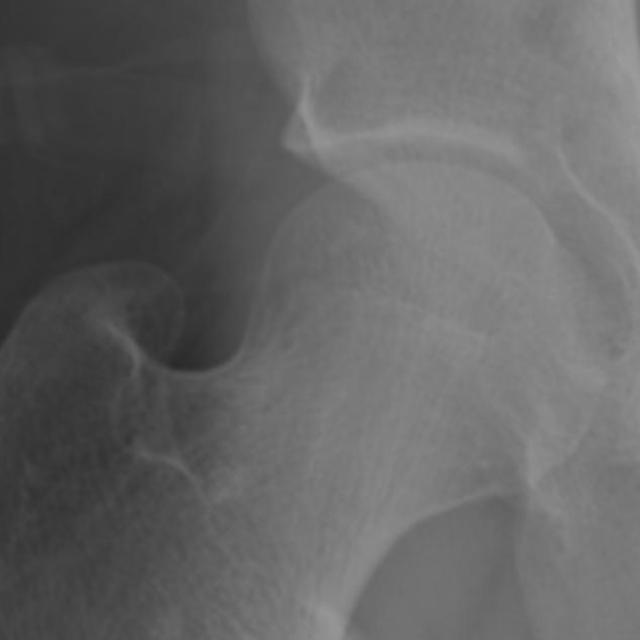Fitted_femural_head: (372, 157, 432, 372)
